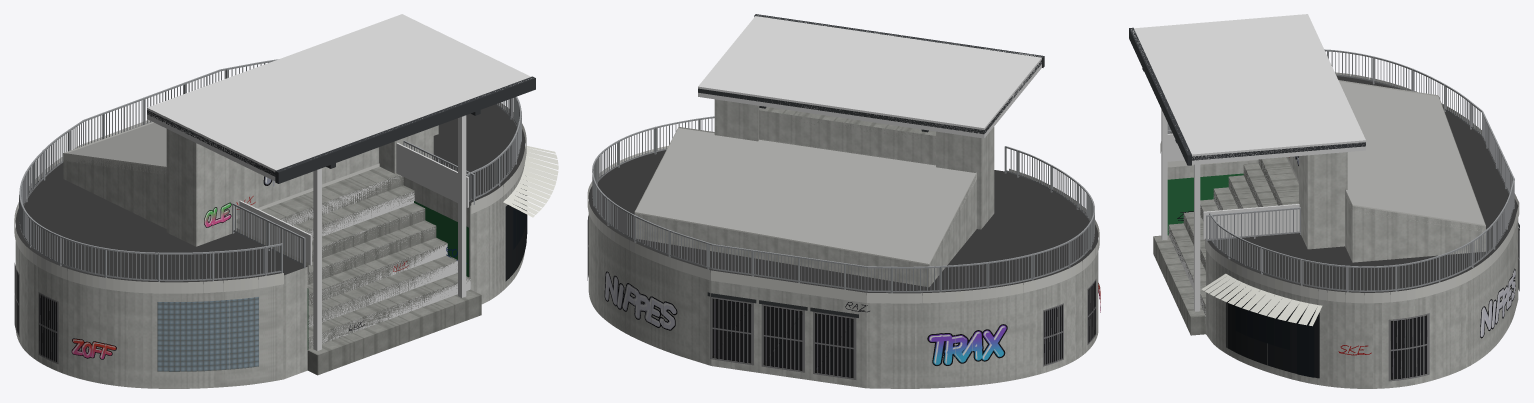
File: wilhelmplatz-tribuene.glb
The picture shows the model from 3 angles, left to right: view 1: azimuth 30°, elevation 25°; view 2: azimuth 150°, elevation 25°; view 3: azimuth 270°, elevation 25°; orthographic projection. The views are drawn at different scales.
Parts seen in each view (by area): view 1: wilhelmplatz-tribuene, wilhelmplatz-tribuene_col; view 2: wilhelmplatz-tribuene, wilhelmplatz-tribuene_col; view 3: wilhelmplatz-tribuene, wilhelmplatz-tribuene_col.
Part boxes in pixels (x1,y1,x2,y2): wilhelmplatz-tribuene: (14, 59, 558, 388); wilhelmplatz-tribuene_col: (147, 14, 531, 350); wilhelmplatz-tribuene: (587, 14, 1100, 388); wilhelmplatz-tribuene_col: (698, 15, 1041, 138); wilhelmplatz-tribuene: (1129, 27, 1519, 388); wilhelmplatz-tribuene_col: (1131, 14, 1365, 316).
Bounding box in the file's own units: 20 × 8.25 × 14.39.
Materials: 15 (5 with a texture image).
